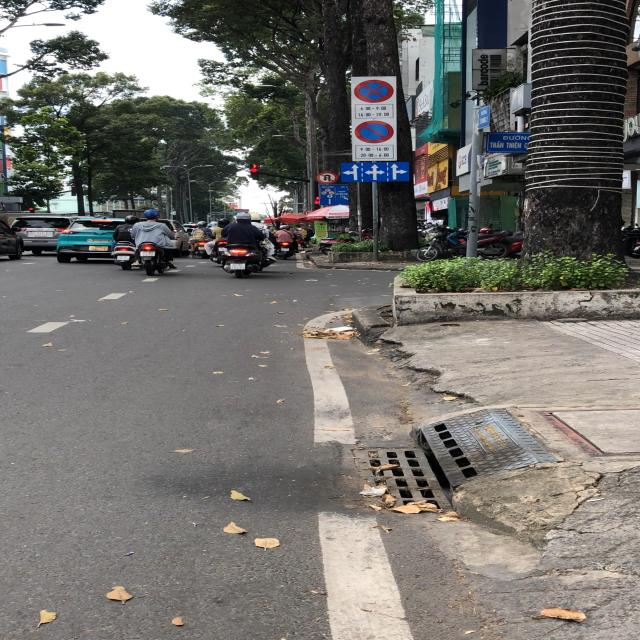Bien bao cam do xe: (355, 120, 394, 144)
Bien bao cam dung xe va do xe: (354, 79, 394, 103)
Bien bao cam quay dau xe: (314, 170, 338, 185)
